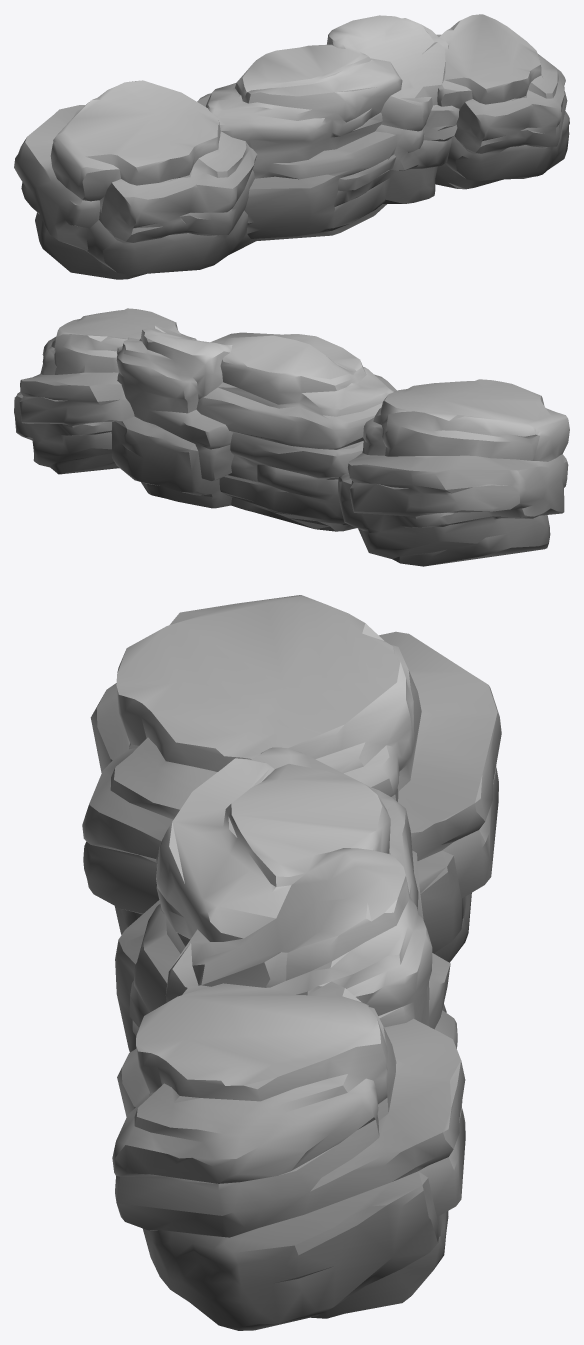
File: Cliff_2.fbx
The picture shows the model from 3 angles, top to bottom: view 1: azimuth 30°, elevation 25°; view 2: azimuth 150°, elevation 25°; view 3: azimuth 270°, elevation 25°; orthographic projection. The views are drawn at different scales.
Parts seen in each view (by area): view 1: Cliff_2; view 2: Cliff_2; view 3: Cliff_2.
Part boxes in pixels (box(x1,y1,x2,y2)): Cliff_2: box(14, 14, 569, 279); Cliff_2: box(14, 308, 569, 566); Cliff_2: box(82, 595, 501, 1330).
Bounding box in the file's own units: 2366 × 640 × 830.
